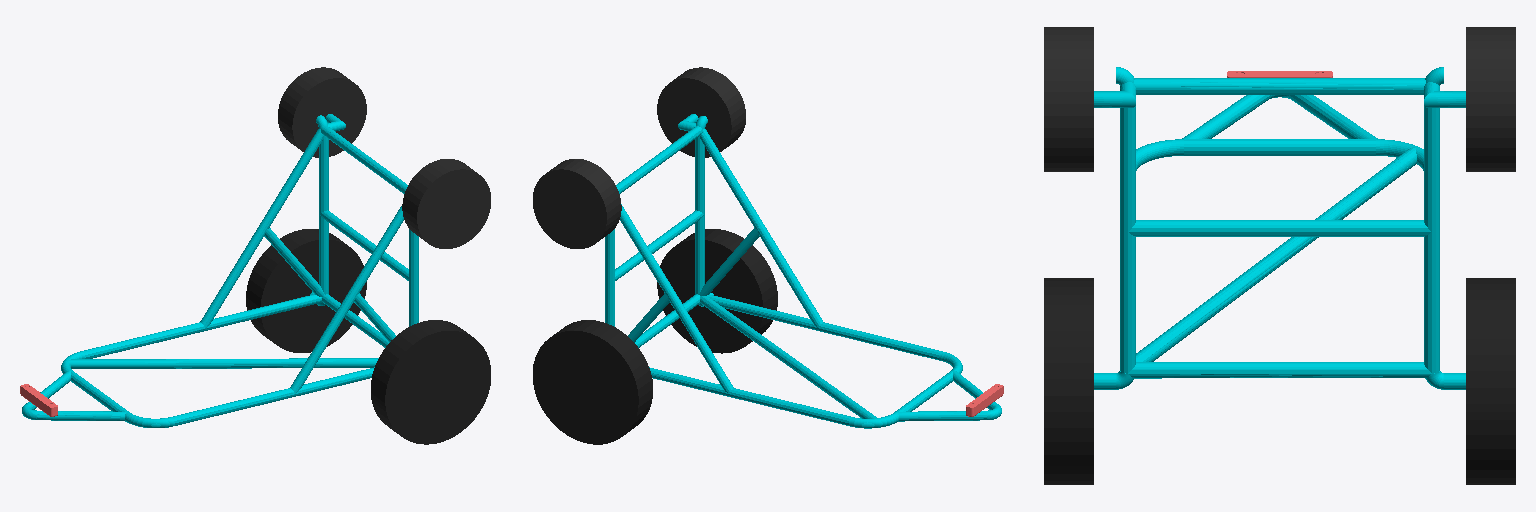
URDF robot description (wcurdf):
<?xml version="1.0"?>
<!-- This URDF was automatically created by SolidWorks to URDF Exporter! Originally created by [author] ([email redacted]) 
     Commit Version: 1.6.0-4-g7f85cfe  Build Version: 1.6.7995.38578
     For more information, please see http://wiki.ros.org/sw_urdf_exporter -->
<robot
  name="wcurdf">
  <link
    name="base_link">
    
    <visual>
      <origin
        xyz="0 0 0"
        rpy="0 0 0" />
      <geometry>
        <mesh
          filename="package://wheelchair_description/meshes/base_link3.STL" />
      </geometry>
      <material
        name="">
        <color
          rgba="0 0.83921568627451 0.890196078431372 1" />
      </material>
    </visual>
    <collision>
      <origin
        xyz="0 0 0"
        rpy="0 0 0" />
      <geometry>
        <mesh
          filename="package://wheelchair_description/meshes/base_link3.STL" />
      </geometry>
    </collision>
  </link>
  <link
    name="wheel1">
    <inertial>
      <origin
        xyz="0.0748658745103095 -0.0291872044114263 -0.402522263649013"
        rpy="0 0 0" />
      <mass
        value="54.9780121890262" />
      <inertia
        ixx="0.415075874747108"
        ixy="7.18276450241275E-20"
        ixz="-2.21272662606604E-18"
        iyy="0.771547349598385"
        iyz="-2.18135030742223E-17"
        izz="0.415075874747108" />
    </inertial>
    <visual>
      <origin
        xyz="0 0 0"
        rpy="0 0 0" />
      <geometry>
        <mesh
          filename="package://wheelchair_description/meshes/wheel1.STL" />
      </geometry>
      <material
        name="">
        <color
          rgba="0.180392156862745 0.180392156862745 0.180392156862745 1" />
      </material>
    </visual>
    <collision>
      <origin
        xyz="0 0 0"
        rpy="0 0 0" />
      <geometry>
        <mesh
          filename="package://wheelchair_description/meshes/wheel1.STL" />
      </geometry>
    </collision>
  </link>
  <joint
    name="j1"
    type="continuous">
    <origin
      xyz="0 0 0"
      rpy="0 0 0" />
    <parent
      link="base_link" />
    <child
      link="wheel1" />
    <axis
      xyz="0 1 0" />
  </joint>
  <link
    name="wheel2">
    <inertial>
      <origin
        xyz="0.124865874510309 -0.0291715874614843 0.122477736350987"
        rpy="0 0 0" />
      <mass
        value="27.0429703133058" />
      <inertia
        ixx="0.107819500135783"
        ixy="2.14909898534325E-18"
        ixz="-5.93828263365939E-18"
        iyy="0.186832004337211"
        iyz="-4.29277370472307E-18"
        izz="0.107819500135783" />
    </inertial>
    <visual>
      <origin
        xyz="0 0 0"
        rpy="0 0 0" />
      <geometry>
        <mesh
          filename="package://wheelchair_description/meshes/wheel2.STL" />
      </geometry>
      <material
        name="">
        <color
          rgba="0.223529411764706 0.223529411764706 0.223529411764706 1" />
      </material>
    </visual>
    <collision>
      <origin
        xyz="0 0 0"
        rpy="0 0 0" />
      <geometry>
        <mesh
          filename="package://wheelchair_description/meshes/wheel2.STL" />
      </geometry>
    </collision>
  </link>
  <joint
    name="j2"
    type="continuous">
    <origin
      xyz="0 0 0"
      rpy="0 0 0" />
    <parent
      link="base_link" />
    <child
      link="wheel2" />
    <axis
      xyz="0 1 0" />
  </joint>
  <link
    name="wheel3">
    <inertial>
      <origin
        xyz="0.124865874510309 -0.709233057844671 0.122477736350988"
        rpy="0 0 0" />
      <mass
        value="27.0429703133058" />
      <inertia
        ixx="0.107819500135783"
        ixy="3.38853330767202E-19"
        ixz="-5.90304606305361E-18"
        iyy="0.186832004337211"
        iyz="-2.23197117192281E-16"
        izz="0.107819500135783" />
    </inertial>
    <visual>
      <origin
        xyz="0 0 0"
        rpy="0 0 0" />
      <geometry>
        <mesh
          filename="package://wheelchair_description/meshes/wheel3.STL" />
      </geometry>
      <material
        name="">
        <color
          rgba="0.223529411764706 0.223529411764706 0.223529411764706 1" />
      </material>
    </visual>
    <collision>
      <origin
        xyz="0 0 0"
        rpy="0 0 0" />
      <geometry>
        <mesh
          filename="package://wheelchair_description/meshes/wheel3.STL" />
      </geometry>
    </collision>
  </link>
  <joint
    name="j3"
    type="continuous">
    <origin
      xyz="0 0 0"
      rpy="0 0 0" />
    <parent
      link="base_link" />
    <child
      link="wheel3" />
    <axis
      xyz="0 1 0" />
  </joint>
  <link
    name="wheel4">
    <inertial>
      <origin
        xyz="0.0748658745103095 -0.709217440894731 -0.402522263649012"
        rpy="0 0 0" />
      <mass
        value="54.9780121890262" />
      <inertia
        ixx="0.415075874747108"
        ixy="-8.74872203773565E-18"
        ixz="-1.66424103725516E-17"
        iyy="0.771547349598384"
        iyz="-1.01109991506764E-15"
        izz="0.415075874747108" />
    </inertial>
    <visual>
      <origin
        xyz="0 0 0"
        rpy="0 0 0" />
      <geometry>
        <mesh
          filename="package://wheelchair_description/meshes/wheel4.STL" />
      </geometry>
      <material
        name="">
        <color
          rgba="0.180392156862745 0.180392156862745 0.180392156862745 1" />
      </material>
    </visual>
    <collision>
      <origin
        xyz="0 0 0"
        rpy="0 0 0" />
      <geometry>
        <mesh
          filename="package://wheelchair_description/meshes/wheel4.STL" />
      </geometry>
    </collision>
  </link>
  <joint
    name="j4"
    type="continuous">
    <origin
      xyz="0 0 0"
      rpy="0 0 0" />
    <parent
      link="base_link" />
    <child
      link="wheel4" />
    <axis
      xyz="0 1 0" />
  </joint>
  <link
    name="camera">
    <inertial>
      <origin
        xyz="-0.96263412548969 -0.369202322653078 -0.353868282254552"
        rpy="0 0 0" />
      <mass
        value="0.964143729308595" />
      <inertia
        ixx="0.00234832622275064"
        ixy="2.0202852485842E-19"
        ixz="1.01370657582998E-20"
        iyy="0.000119230074904324"
        iyz="2.00144573390879E-19"
        izz="0.00232747878836438" />
    </inertial>
    <visual>
      <origin
        xyz="0 0 0"
        rpy="0 0 0" />
      <geometry>
        <mesh
          filename="package://wheelchair_description/meshes/camera.STL" />
      </geometry>
      <material
        name="">
        <color
          rgba="1 0.458823529411765 0.458823529411765 1" />
      </material>
    </visual>
    <collision>
      <origin
        xyz="0 0 0"
        rpy="0 0 0" />
      <geometry>
        <mesh
          filename="package://wheelchair_description/meshes/camera.STL" />
      </geometry>
    </collision>
  </link>
  <joint
    name="f1"
    type="fixed">
    <origin
      xyz="0 0 0"
      rpy="0 0 0" />
    <parent
      link="base_link" />
    <child
      link="camera" />
    <axis
      xyz="0 0 0" />
  </joint>
  
  <transmission name="frontWheel_L_tran">
    <type>transmission_interface/SimpleTransmission</type>
    <joint name="wheel2">
      <hardwareInterface>hardware_interface/EffortJointInterface</hardwareInterface>
    </joint>
    <actuator name="frontWheel_L_actr">
      <hardwareInterface>hardware_interface/EffortJointInterface</hardwareInterface>
      <mechanicalReduction>1</mechanicalReduction>
    </actuator>
  </transmission>
  <transmission name="frontWheel_R_tran">
    <type>transmission_interface/SimpleTransmission</type>
    <joint name="wheel3">
      <hardwareInterface>hardware_interface/EffortJointInterface</hardwareInterface>
    </joint>
    <actuator name="frontWheel_R_actr">
      <hardwareInterface>hardware_interface/EffortJointInterface</hardwareInterface>
      <mechanicalReduction>1</mechanicalReduction>
    </actuator>
  </transmission>
  <transmission name="BackWheel_R_tran">
    <type>transmission_interface/SimpleTransmission</type>
    <joint name="wheel4">
      <hardwareInterface>hardware_interface/VelocityJointInterface</hardwareInterface>
    </joint>
    <actuator name="BackWheel_R_actr">
      <hardwareInterface>hardware_interface/VelocityJointInterface</hardwareInterface>
      <mechanicalReduction>1</mechanicalReduction>
    </actuator>
  </transmission>
  <transmission name="BackWheel_L_tran">
    <type>transmission_interface/SimpleTransmission</type>
    <joint name="wheel1">
      <hardwareInterface>hardware_interface/VelocityJointInterface</hardwareInterface>
    </joint>
    <actuator name="BackWheel_L_actr">
      <hardwareInterface>hardware_interface/VelocityJointInterface</hardwareInterface>
      <mechanicalReduction>1</mechanicalReduction>
    </actuator>
  </transmission>
</robot>

--- What the picture shows (computed from the rendered views, not written in the file) ---
Views: 3 orthographic renders of the robot side by side, from view 1: azimuth 30°, elevation 25°; view 2: azimuth 150°, elevation 25°; view 3: azimuth 270°, elevation 25°.
Model wcurdf with 6 links and 5 joints (4 continuous, 1 fixed), rooted at base_link, posed every joint at zero.
Links seen in each view (by area): view 1: base_link, wheel4, wheel1, wheel3, wheel2, camera; view 2: base_link, wheel1, wheel4, wheel2, wheel3, camera; view 3: base_link, wheel1, wheel4, wheel2, wheel3, camera.
Boxes of the visible links, left/top/right/bottom form: base_link: left=22, top=114, right=418, bottom=427; wheel4: left=371, top=320, right=490, bottom=444; wheel1: left=246, top=229, right=366, bottom=352; wheel3: left=402, top=159, right=490, bottom=248; wheel2: left=278, top=67, right=366, bottom=157; camera: left=20, top=384, right=57, bottom=416; base_link: left=605, top=114, right=1001, bottom=428; wheel1: left=533, top=320, right=652, bottom=444; wheel4: left=657, top=229, right=777, bottom=353; wheel2: left=533, top=159, right=621, bottom=248; wheel3: left=657, top=67, right=745, bottom=157; camera: left=966, top=384, right=1003, bottom=416; base_link: left=1094, top=67, right=1465, bottom=389; wheel1: left=1466, top=278, right=1515, bottom=484; wheel4: left=1044, top=278, right=1093, bottom=484; wheel2: left=1466, top=27, right=1515, bottom=171; wheel3: left=1044, top=27, right=1093, bottom=171; camera: left=1227, top=71, right=1332, bottom=77.
Size in the robot's own frame: 1.25 by 0.76 by 0.8099 metres.
Meshes: 6 distinct files referenced, 6 mesh visuals loaded (6 binary STL).
